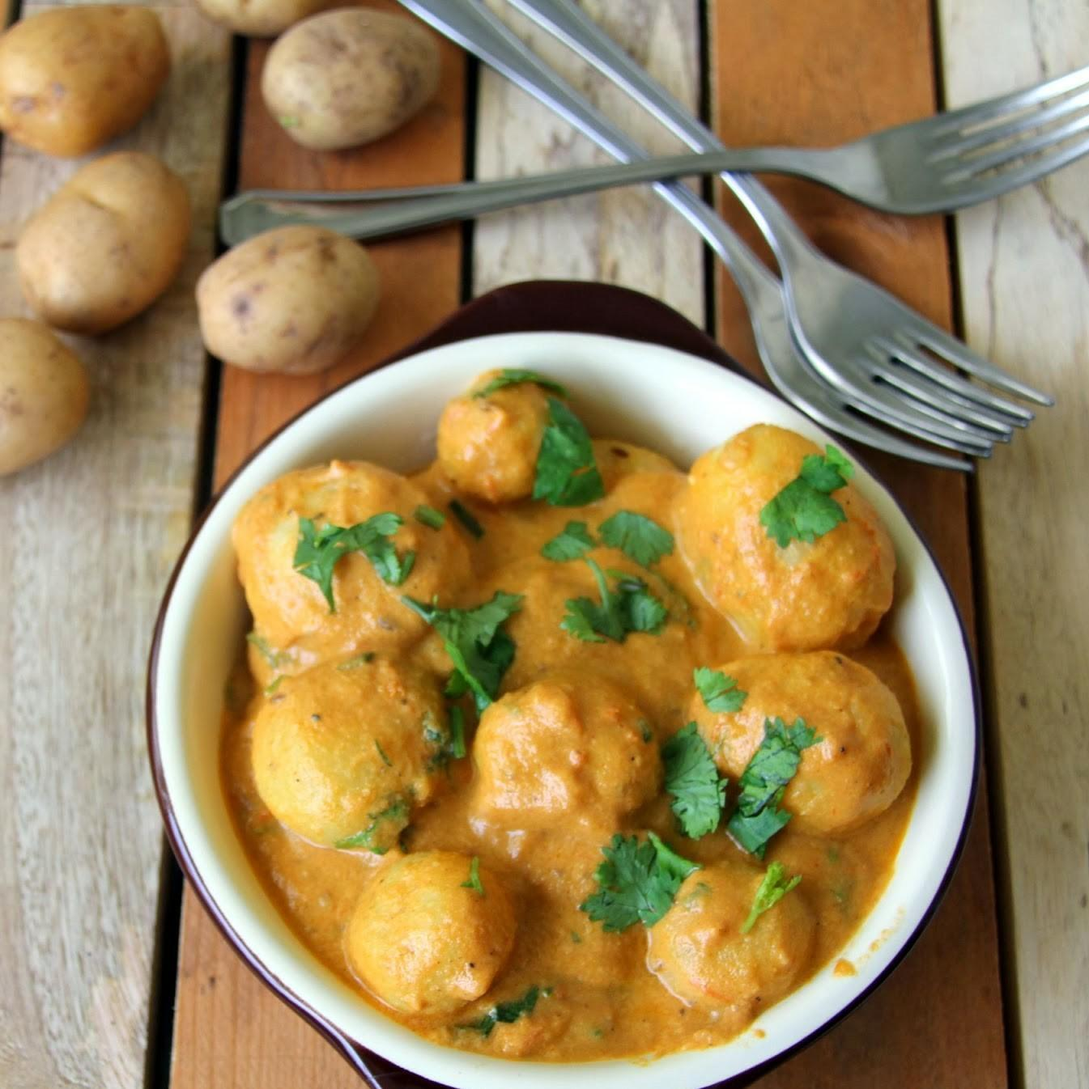DumAloo: (236, 364, 924, 1061)
